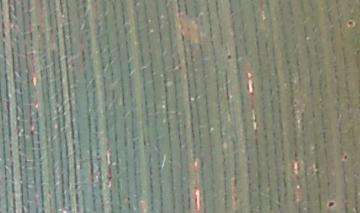tarspot: (284, 58, 292, 67), (346, 19, 354, 27), (106, 175, 113, 184), (35, 23, 41, 32), (326, 180, 332, 189), (327, 200, 334, 207), (29, 129, 35, 136), (226, 54, 232, 60), (343, 153, 347, 160), (293, 99, 297, 106)
